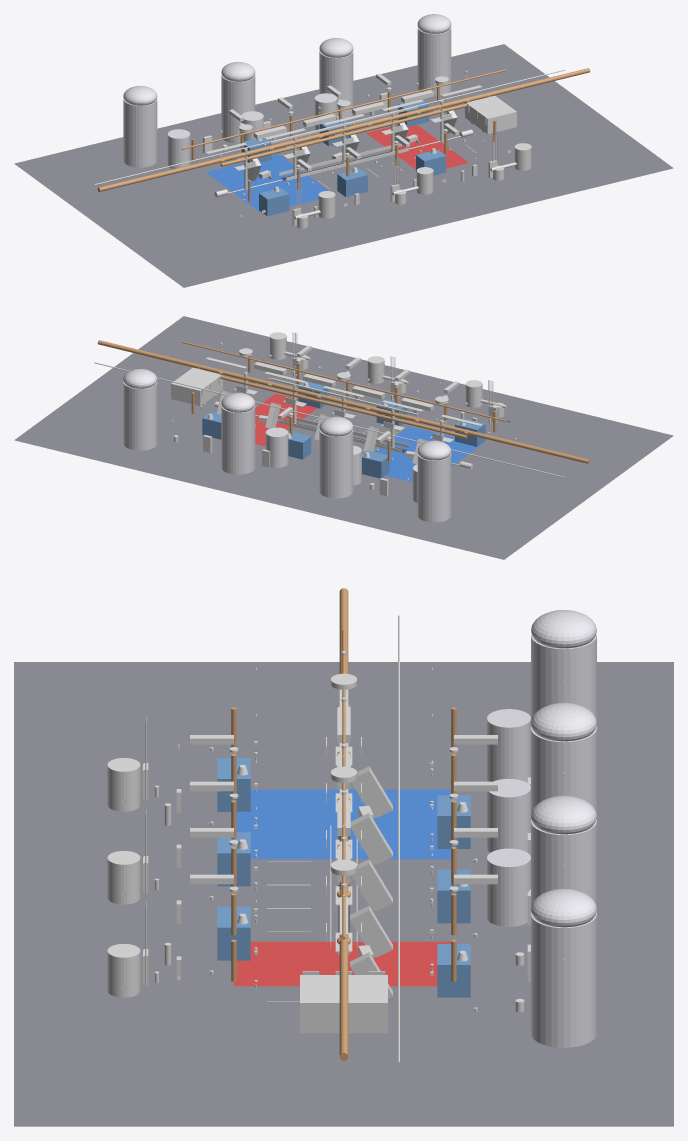
The model's file is industry2.glb.
3 views of the same model, one above another, from view 1: azimuth 30°, elevation 25°; view 2: azimuth 150°, elevation 25°; view 3: azimuth 270°, elevation 25° (orthographic). The views are drawn at different scales.
Parts seen in each view (by area): view 1: Factory_Floor, Blue_Floor_Section, Bulk_Silo_1, Bulk_Silo_4, Bulk_Silo_2, Bulk_Silo_3, Red_Floor_Section, Main_Control_Room, Main_Supply_Pipe_6, Storage_Tank_1, Machine_1, Machine_3 (+13 smaller); view 2: Factory_Floor, Bulk_Silo_3, Bulk_Silo_4, Bulk_Silo_2, Bulk_Silo_1, Blue_Floor_Section, Main_Control_Room, Red_Floor_Section, Main_Supply_Pipe_6, Storage_Tank_3, Machine_2, Main_Supply_Pipe_1 (+12 smaller); view 3: Factory_Floor, Blue_Floor_Section, Bulk_Silo_4, Red_Floor_Section, Main_Control_Room, Bulk_Silo_1, Bulk_Silo_2, Bulk_Silo_3, Storage_Tank_3, Storage_Tank_1, Storage_Tank_2, Silo_Dome_1 (+17 smaller).
Part boxes in pixels (bbox=[...]): Factory_Floor: bbox=[14, 44, 673, 287]; Blue_Floor_Section: bbox=[205, 154, 328, 213]; Bulk_Silo_1: bbox=[123, 98, 157, 167]; Bulk_Silo_4: bbox=[417, 26, 451, 95]; Bulk_Silo_2: bbox=[221, 74, 255, 143]; Bulk_Silo_3: bbox=[319, 50, 353, 118]; Red_Floor_Section: bbox=[366, 124, 468, 169]; Main_Control_Room: bbox=[465, 95, 516, 134]; Main_Supply_Pipe_6: bbox=[345, 68, 590, 130]; Storage_Tank_1: bbox=[167, 129, 190, 168]; Machine_1: bbox=[259, 188, 289, 216]; Machine_3: bbox=[337, 169, 367, 196]; Factory_Floor: bbox=[14, 316, 673, 559]; Bulk_Silo_3: bbox=[221, 405, 255, 474]; Bulk_Silo_4: bbox=[123, 381, 157, 450]; Bulk_Silo_2: bbox=[319, 429, 353, 498]; Bulk_Silo_1: bbox=[417, 453, 451, 522]; Blue_Floor_Section: bbox=[374, 426, 482, 482]; Main_Control_Room: bbox=[171, 367, 222, 406]; Red_Floor_Section: bbox=[255, 393, 317, 446]; Main_Supply_Pipe_6: bbox=[97, 340, 342, 402]; Storage_Tank_3: bbox=[265, 427, 288, 467]; Machine_2: bbox=[362, 450, 389, 478]; Main_Supply_Pipe_1: bbox=[343, 403, 590, 463]; Factory_Floor: bbox=[14, 662, 673, 1126]; Blue_Floor_Section: bbox=[236, 789, 451, 859]; Bulk_Silo_4: bbox=[531, 912, 596, 1047]; Red_Floor_Section: bbox=[234, 941, 451, 986]; Main_Control_Room: bbox=[300, 975, 387, 1032]; Bulk_Silo_1: bbox=[531, 633, 596, 727]; Bulk_Silo_2: bbox=[531, 726, 596, 820]; Bulk_Silo_3: bbox=[531, 819, 596, 913]; Storage_Tank_3: bbox=[487, 848, 530, 926]; Storage_Tank_1: bbox=[487, 709, 530, 782]; Storage_Tank_2: bbox=[487, 778, 530, 852]; Silo_Dome_1: bbox=[531, 610, 596, 648].
Bounding box in the file's own units: 100 × 15 × 60.
